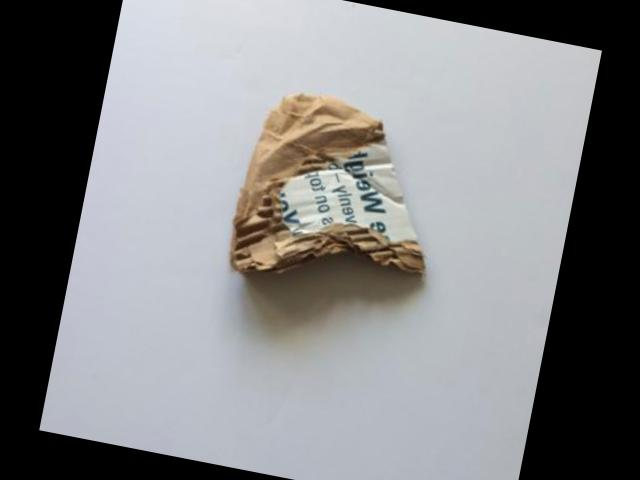cardboard paper: (229, 91, 422, 270)
